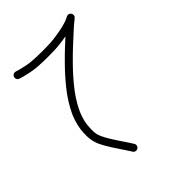e: (5, 5, 85, 81)
